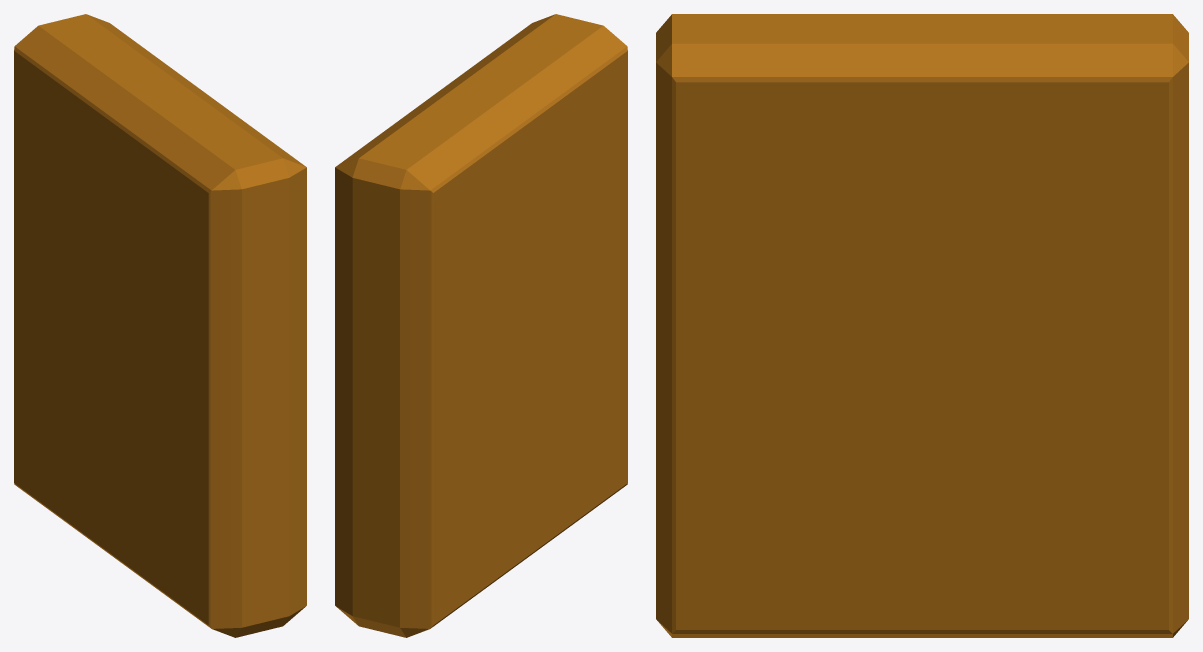
File: Drop_Target.fbx
The picture shows the model from 3 angles, left to right: view 1: azimuth 30°, elevation 25°; view 2: azimuth 150°, elevation 25°; view 3: azimuth 270°, elevation 25°; orthographic projection. The views are drawn at different scales.
Visible parts, largest first — view 1: Drop_Target; view 2: Drop_Target; view 3: Drop_Target.
Boxes of the visible parts, box(x1,y1,x2,y2) form: Drop_Target: box(14, 14, 306, 637); Drop_Target: box(335, 14, 627, 637); Drop_Target: box(656, 14, 1188, 637).
Size of the model in its own units: 0.6785 by 3.09 by 2.51.
